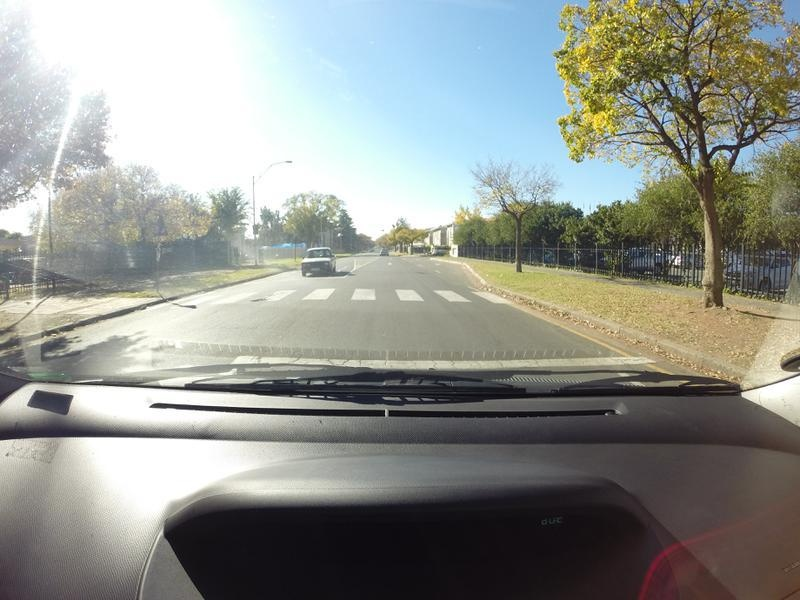pothole: (247, 297, 264, 305)
